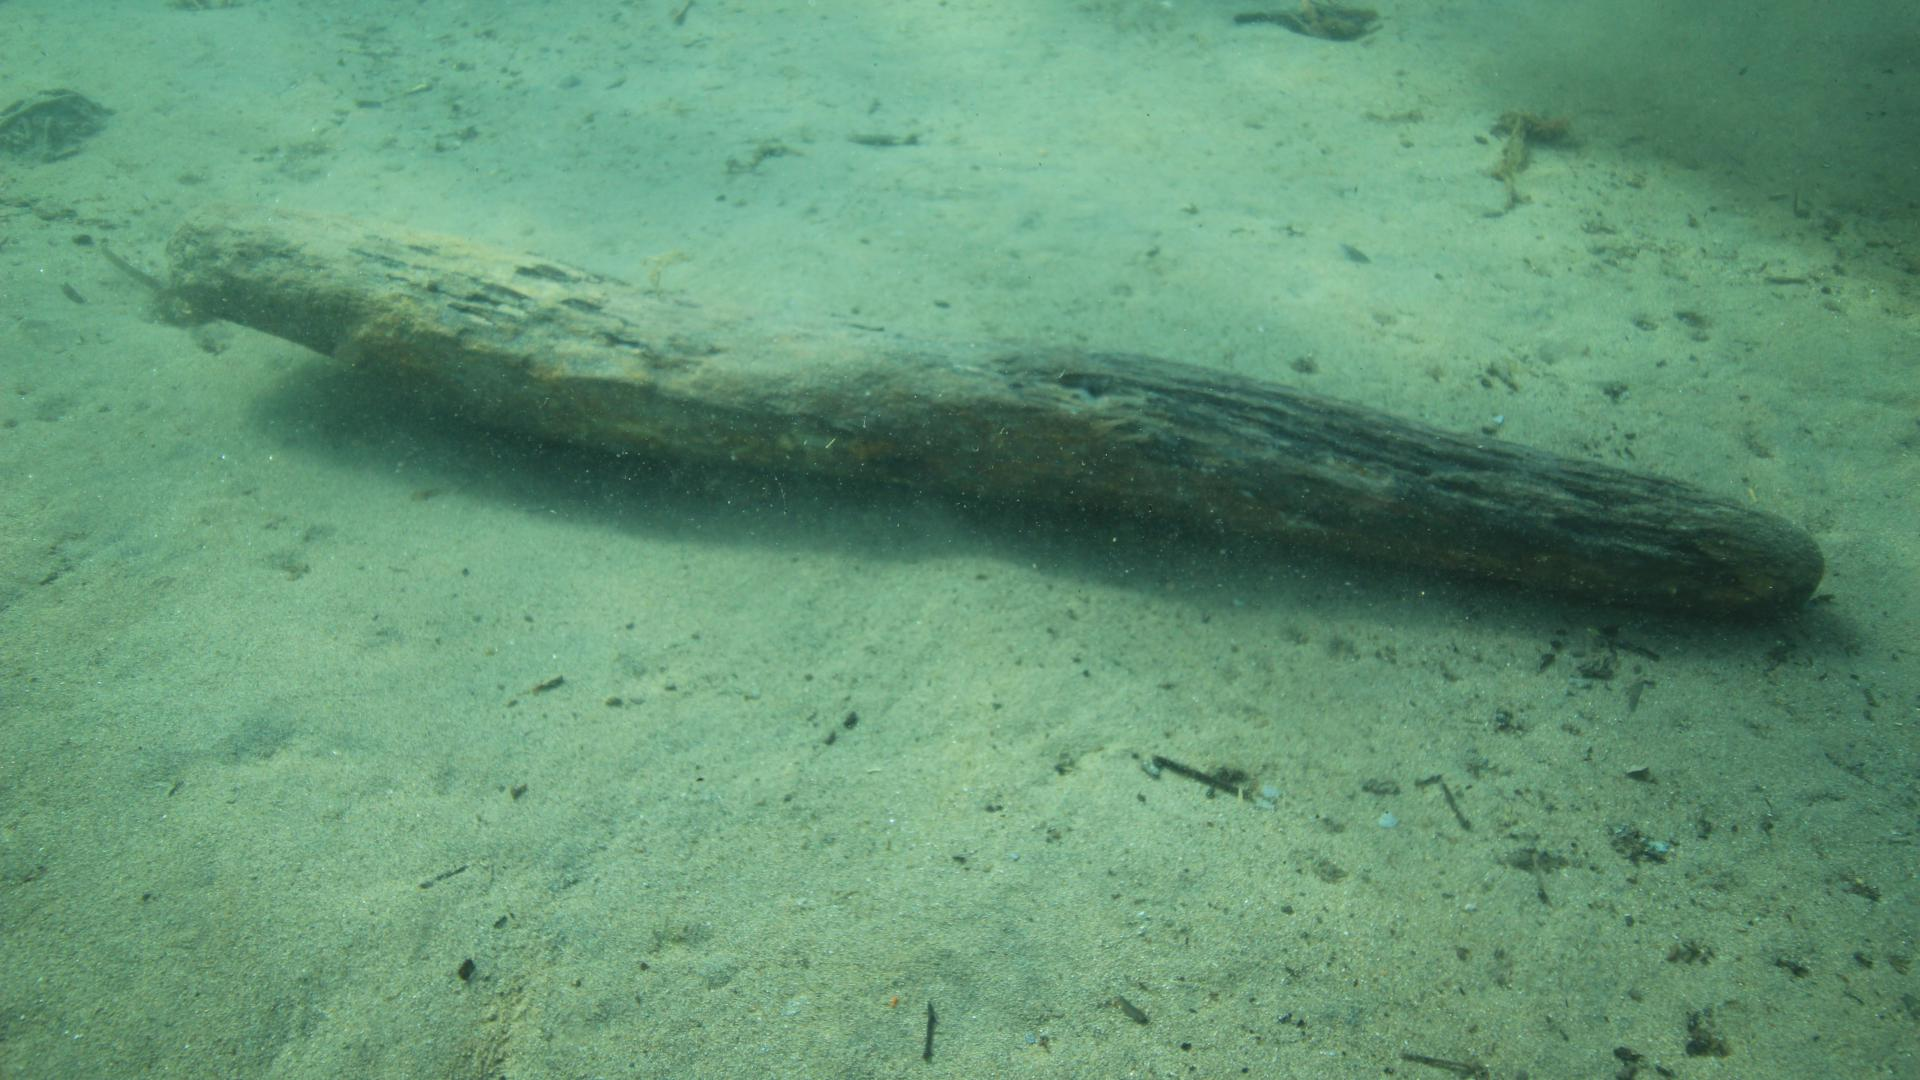wood: (164, 200, 1828, 622)
